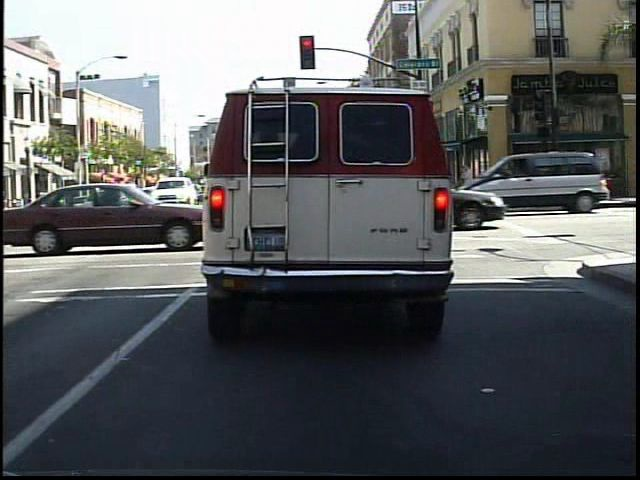person: (537, 155, 558, 205), (511, 161, 531, 207)
